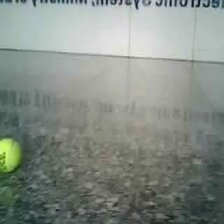tennis: (1, 137, 20, 173)
